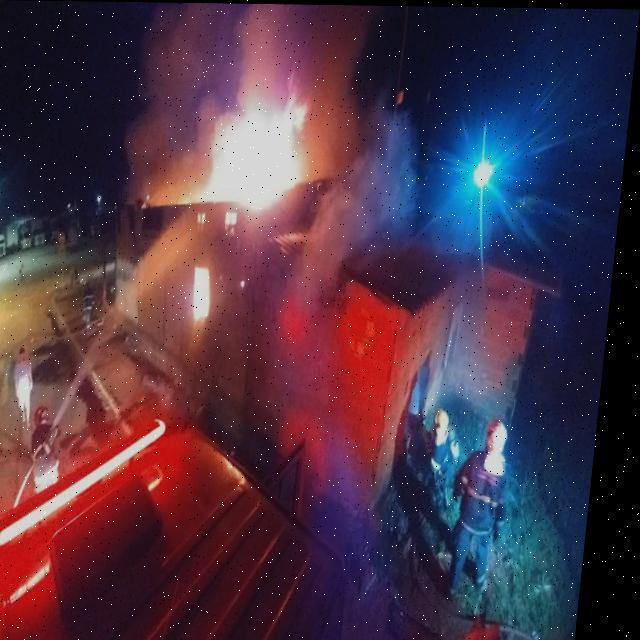Fire: (176, 94, 316, 206)
